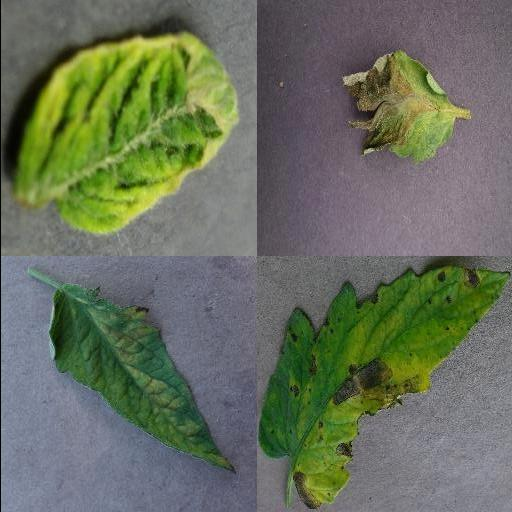Early Blight: (257, 268, 511, 510)
Late Blight: (343, 50, 459, 160)
Leaf Mold: (44, 284, 236, 472)
Yellow Leaf Curl Virus: (12, 31, 238, 238)
